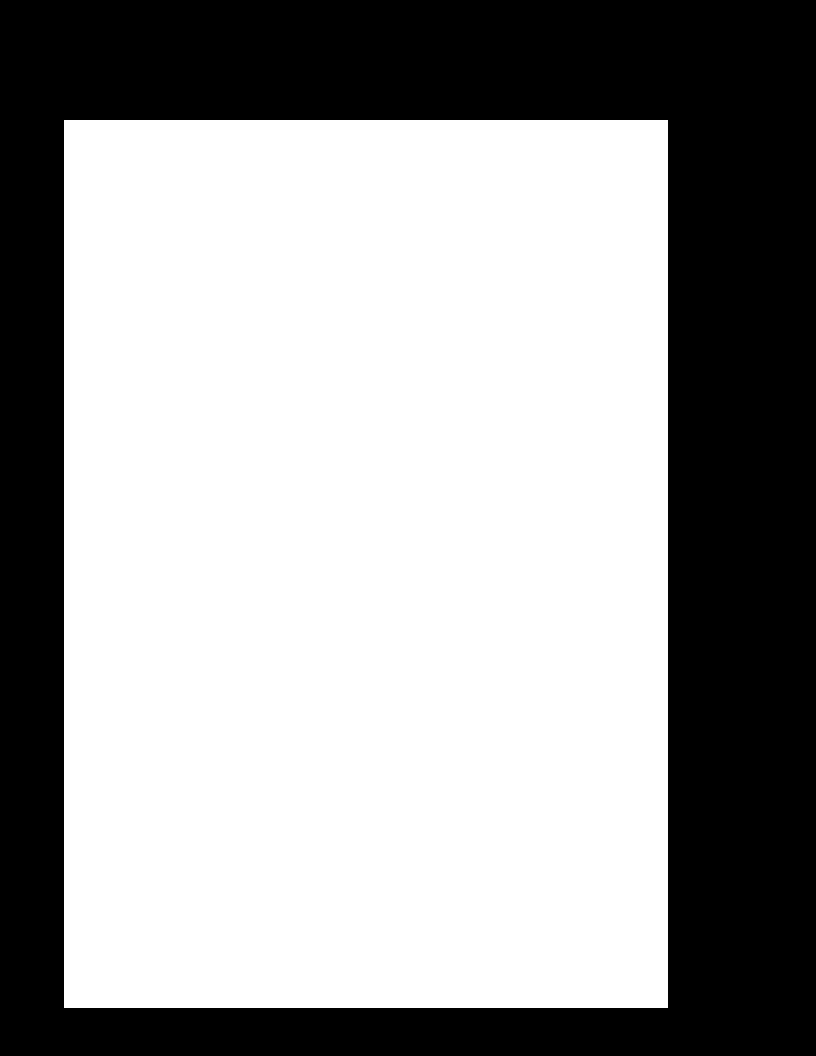table: (64, 120, 667, 1007)
